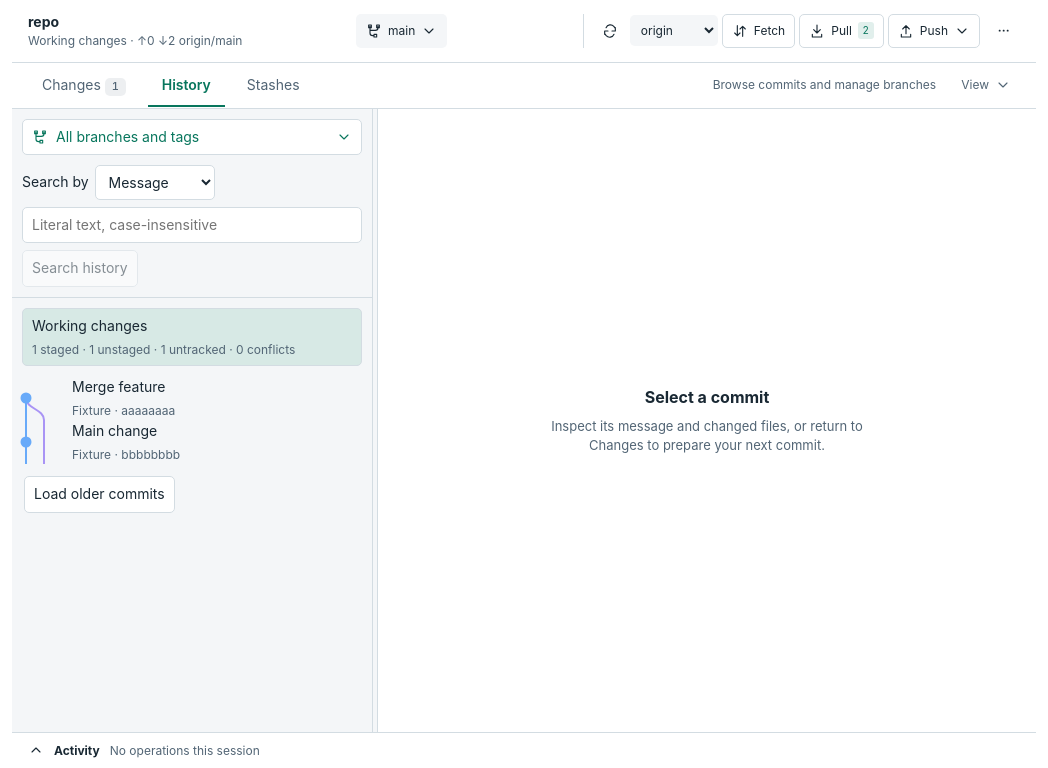
Test: repository workflows (mocked IPC) › collapses compact history scope, closes with Escape and preserves saved widths
Expected: the button "Merge feature Fixture · aaaaaaaa" is shown, x1=12 y1=376 x2=372 y2=420
Click the button with aria-label "History scope and branches" at {"x": 192, "y": 137}, box x1=22 y1=119 x2=362 y2=155
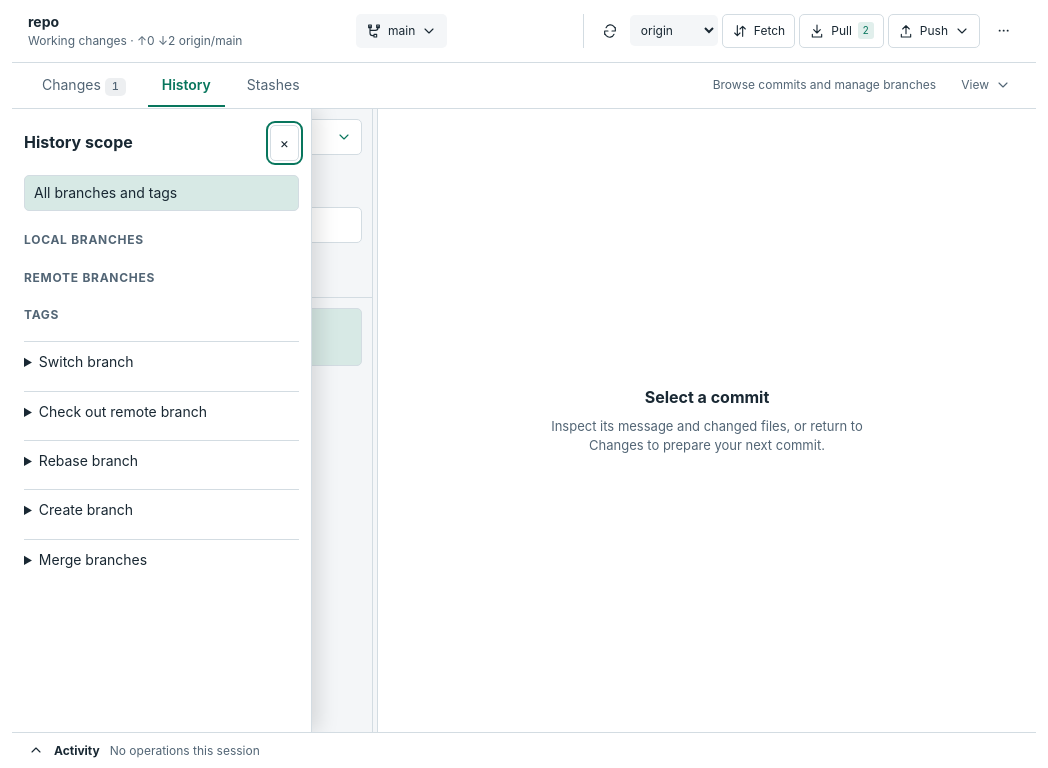
Press Escape in the button named "Close history scope", box x1=270 y1=125 x2=299 y2=161
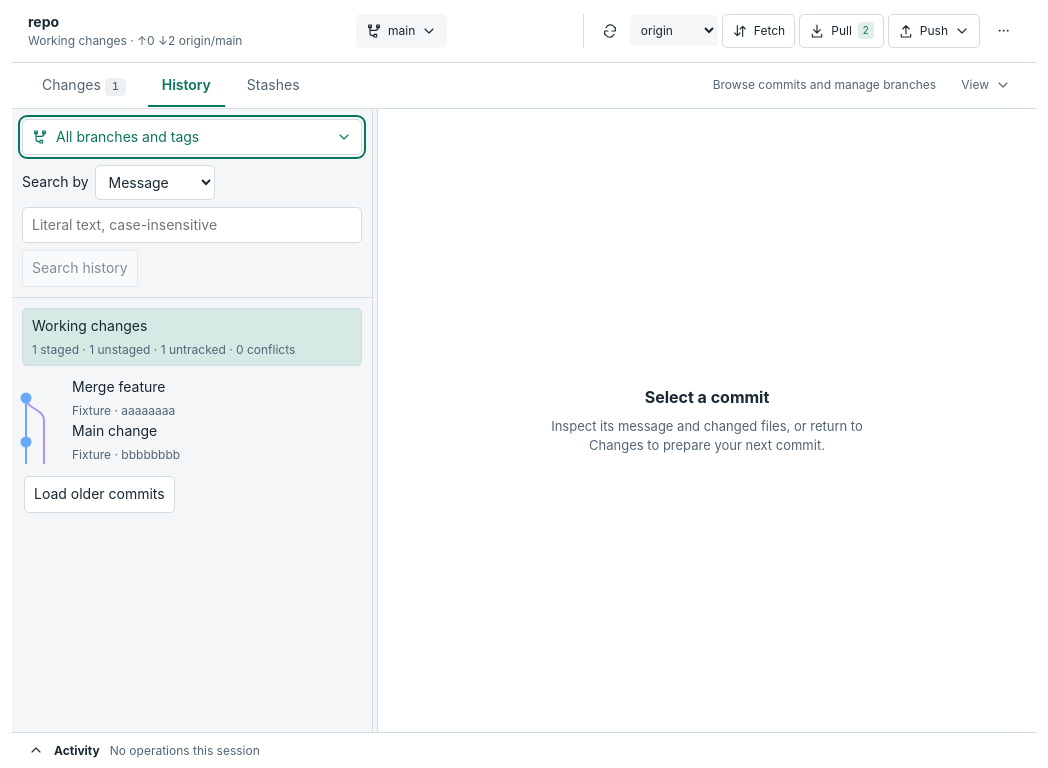
Expected: the button with aria-label "History scope and branches" is collapsed, x1=22 y1=119 x2=362 y2=155
